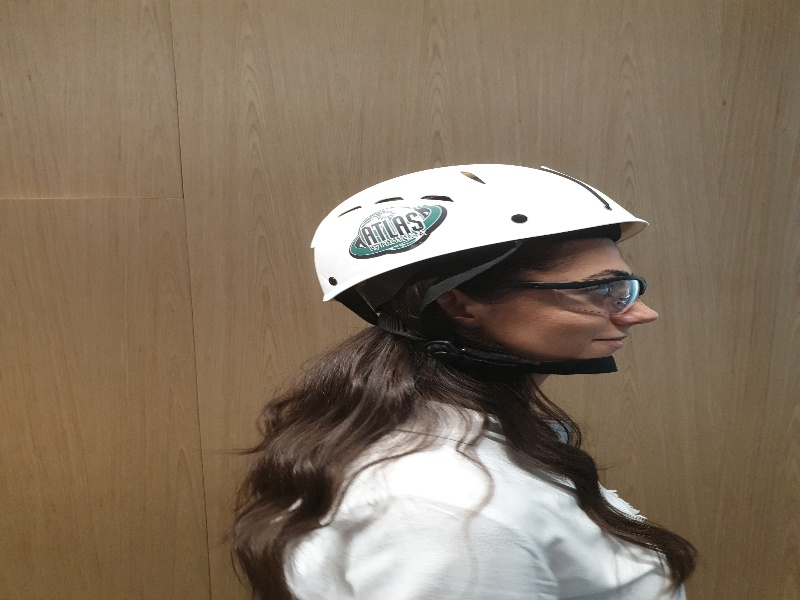Baret: (315, 166, 650, 274)
Gozluk: (480, 276, 646, 316)
